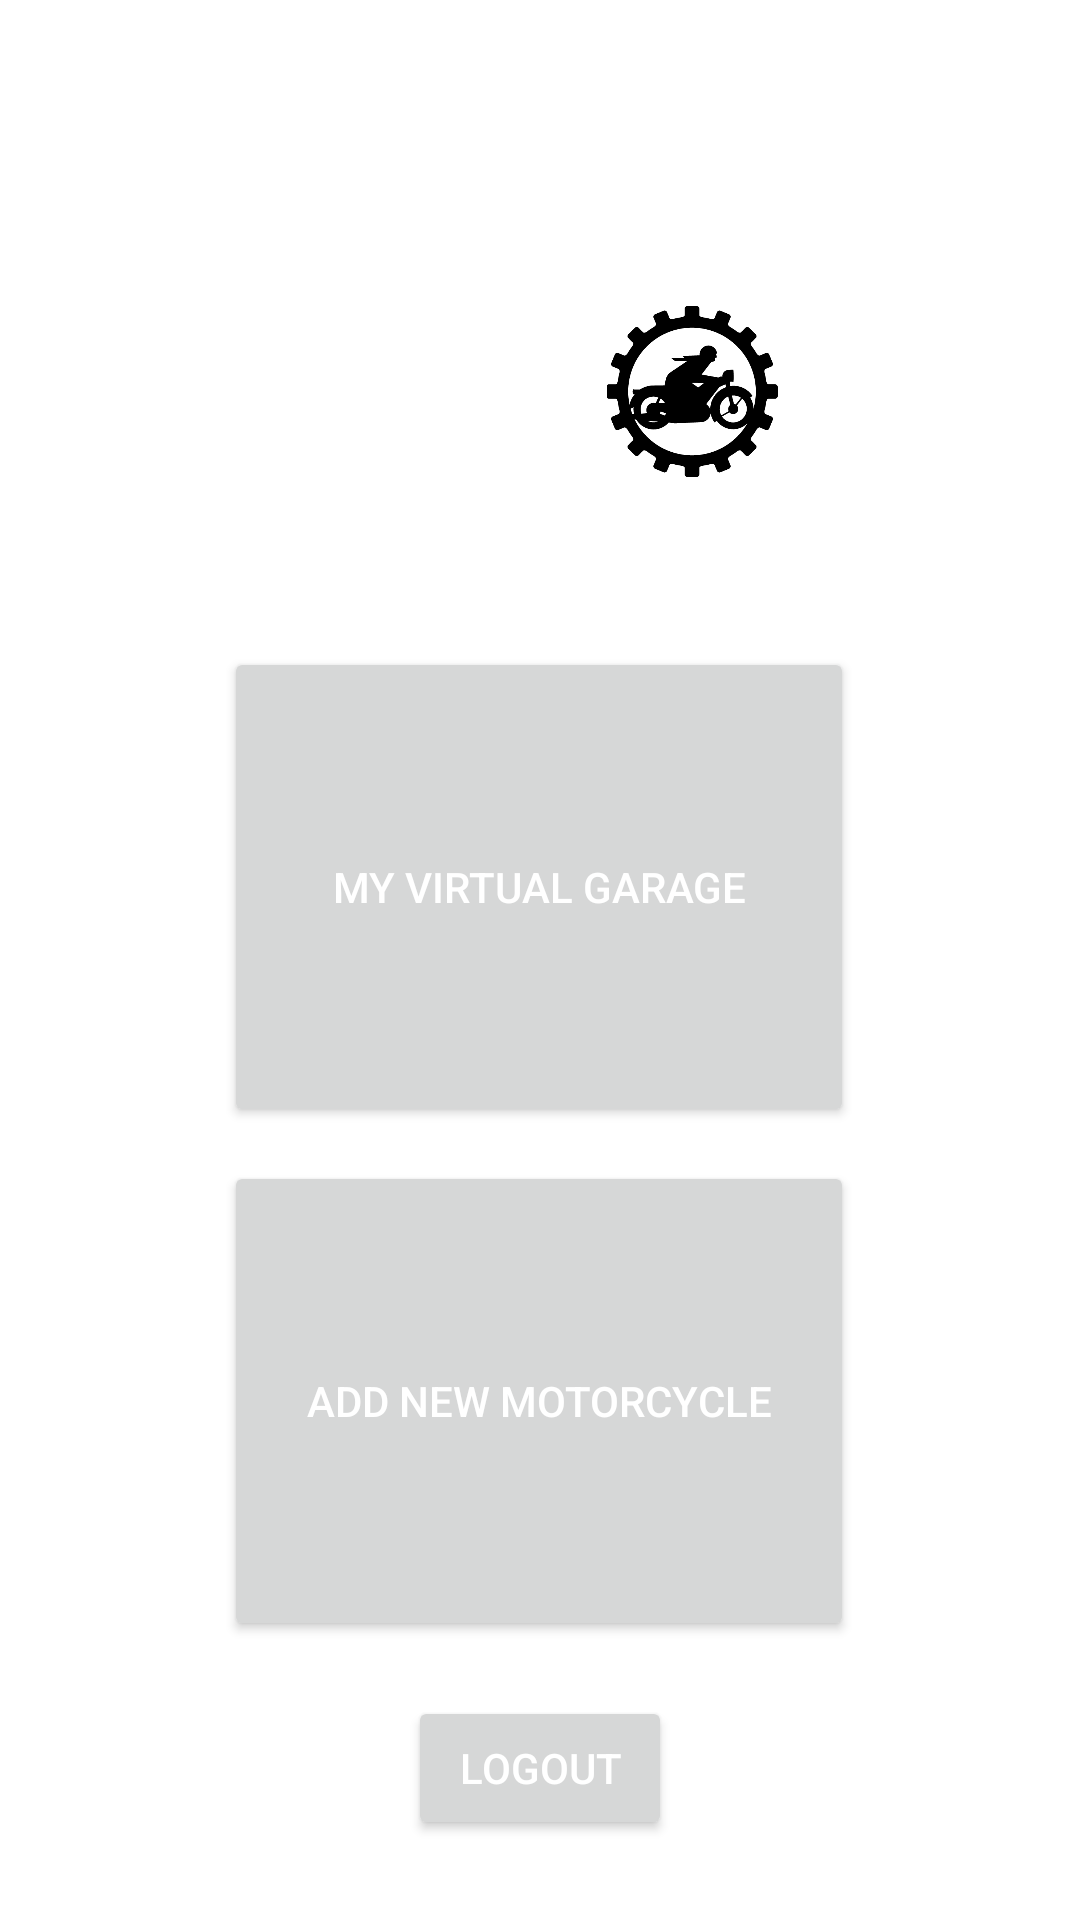

Icon bounding boxes for this 1080w x 1920h phone screenshot, format (x1, y1, x2, y2):
oldtimer motorcycle mechanic: (607, 306, 778, 477)
